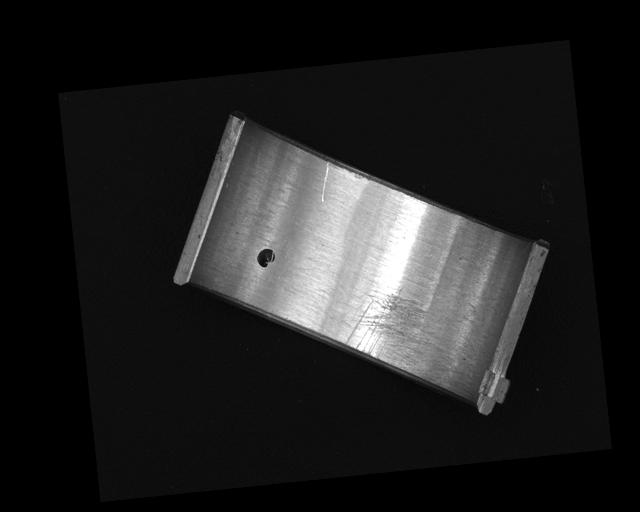blot: (255, 247, 277, 268)
nick: (317, 162, 334, 202)
scratch: (340, 283, 447, 395)
